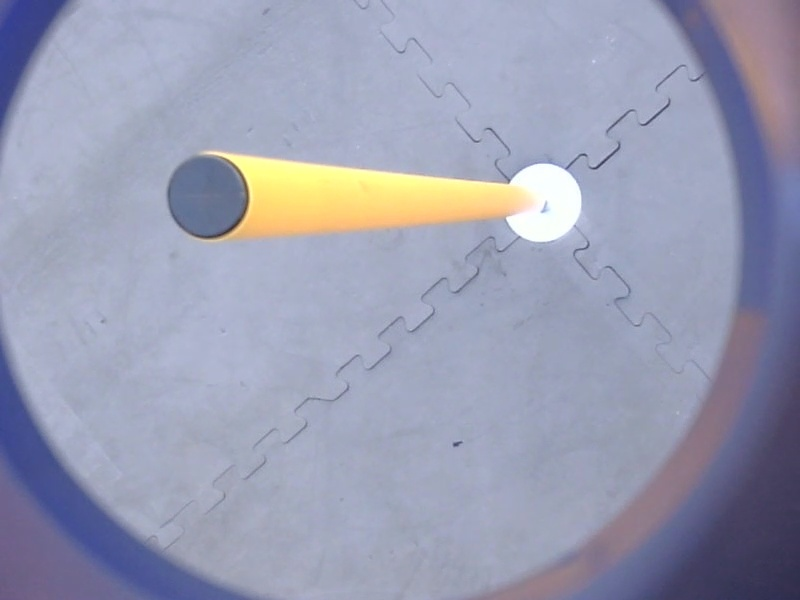tip: (159, 145, 257, 248)
